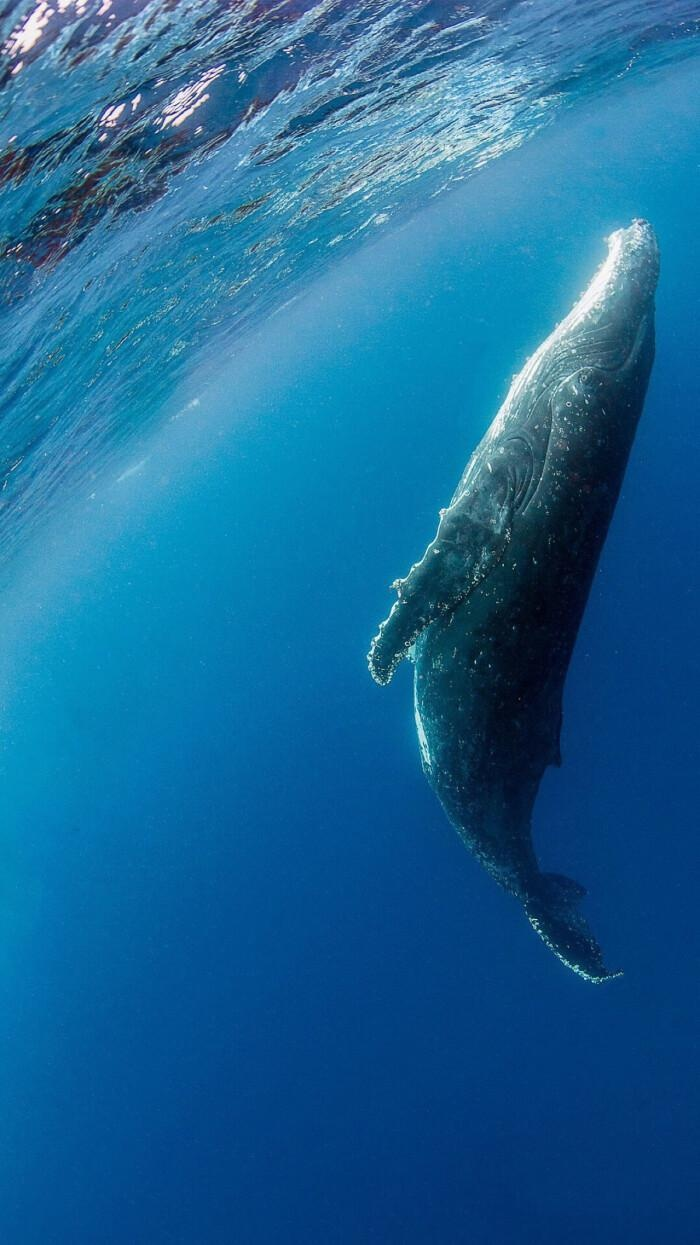fish: (361, 217, 652, 984)
